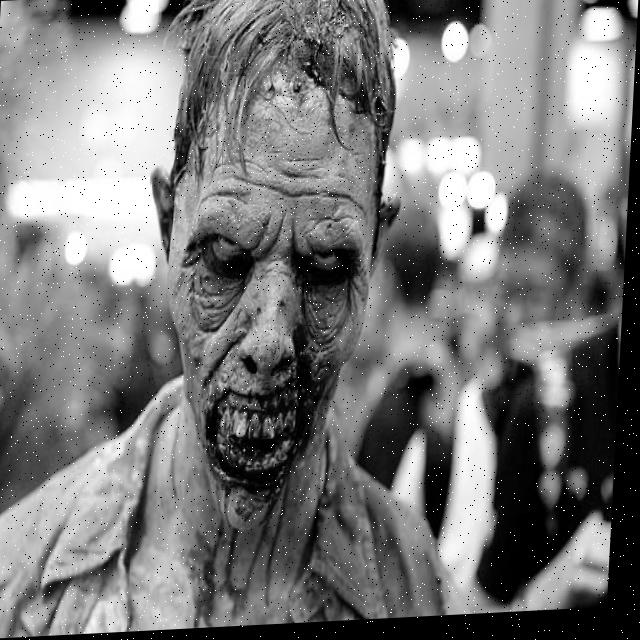Zombie: (102, 0, 420, 544)
